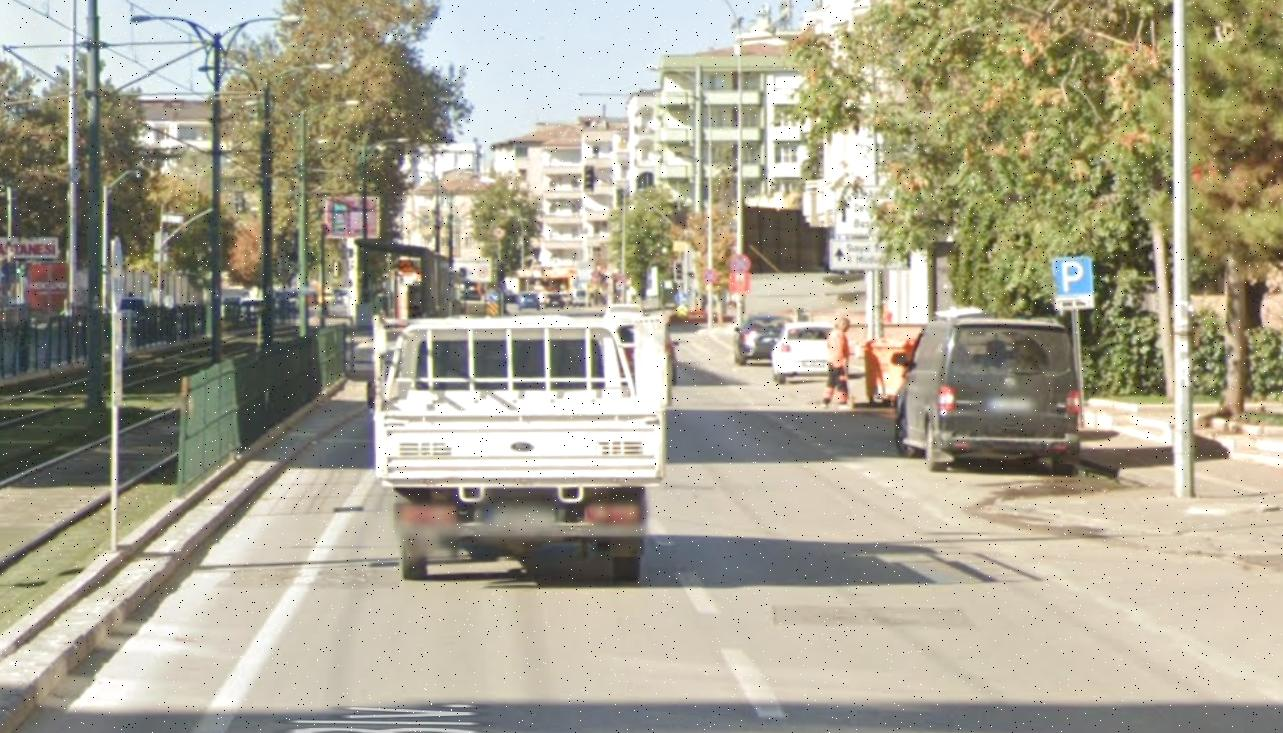park: (1055, 257, 1093, 298)
